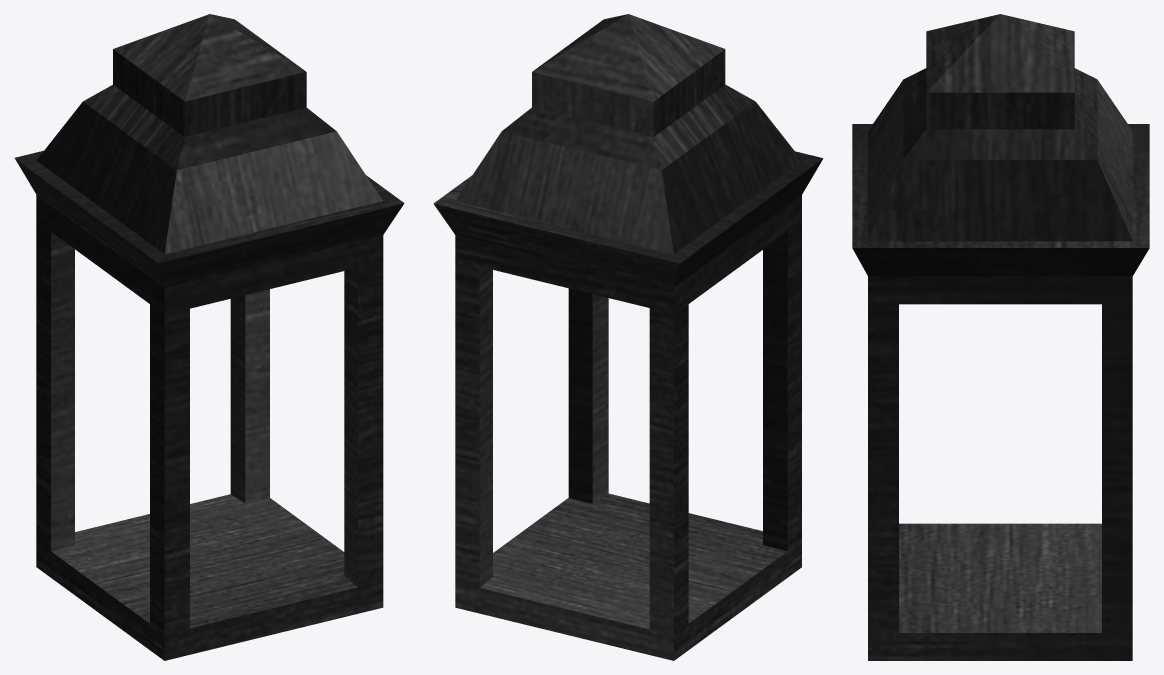
File: lantern.fbx
3 views of the same model, side by side, from view 1: azimuth 30°, elevation 25°; view 2: azimuth 150°, elevation 25°; view 3: azimuth 270°, elevation 25° (orthographic). The views are drawn at different scales.
Visible parts, largest first — view 1: Cube; view 2: Cube; view 3: Cube.
Boxes of the visible parts, <box> form: Cube: <box>14,14,404,660</box>; Cube: <box>433,14,823,660</box>; Cube: <box>852,14,1149,660</box>.
Bounding box in the file's own units: 56.07 × 125 × 56.84.
Materials: 1 (1 with a texture image).
